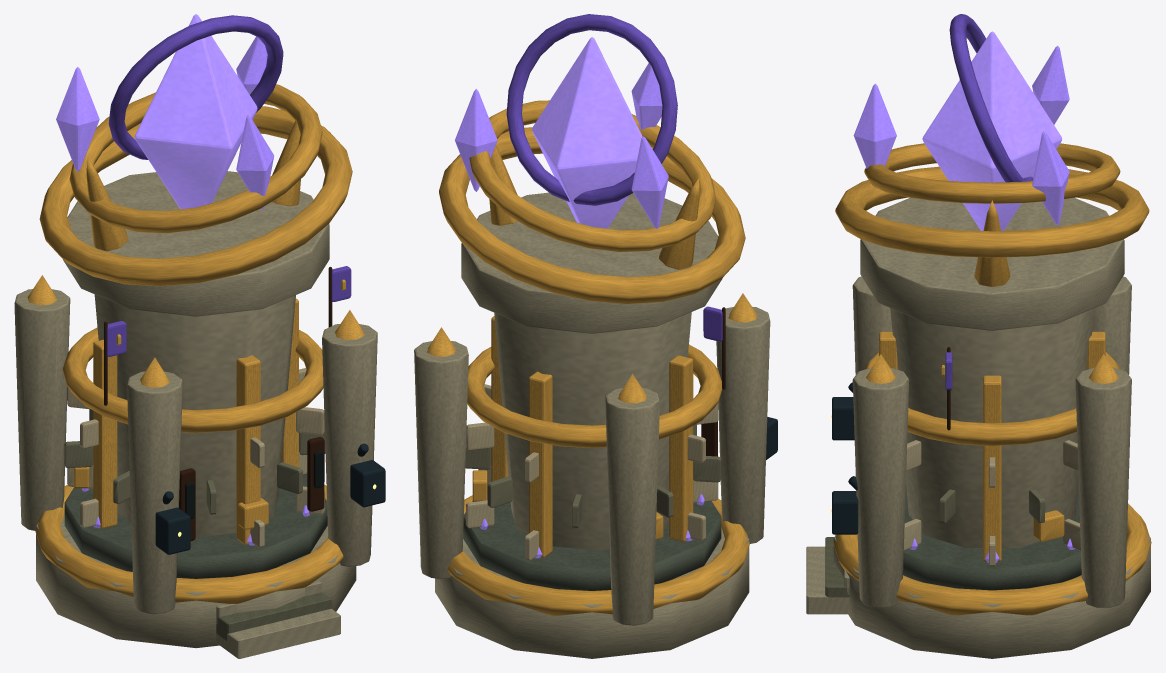
File: tower-arcane-3-base.glb
The picture shows the model from 3 angles, left to right: view 1: azimuth 30°, elevation 25°; view 2: azimuth 150°, elevation 25°; view 3: azimuth 270°, elevation 25°; orthographic projection.
Parts seen in each view (by area): view 1: Foundation, Turret, arcane-L3-base; view 2: Foundation, Turret, arcane-L3-base; view 3: Foundation, Turret, arcane-L3-base.
Boxes of the visible parts, x1,y1,x2,y2 form: Foundation: (14,266,385,658); Turret: (39,14,352,316); arcane-L3-base: (36,474,356,648); Foundation: (414,293,777,625); Turret: (439,14,745,333); arcane-L3-base: (435,489,749,658); Foundation: (806,276,1151,615); Turret: (835,14,1149,330); arcane-L3-base: (833,485,1150,658).
Size of the model in its own units: 1.69 by 3.32 by 1.83.
Materials: 16 (16 with a texture image).
